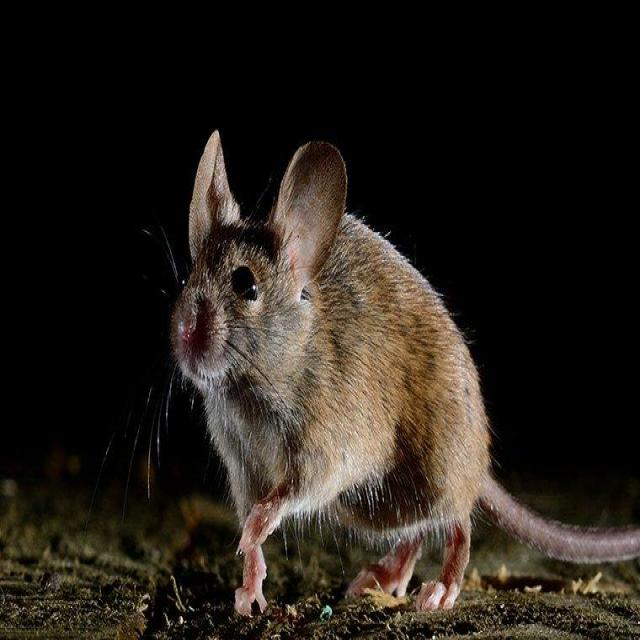rat: (152, 126, 640, 618)
